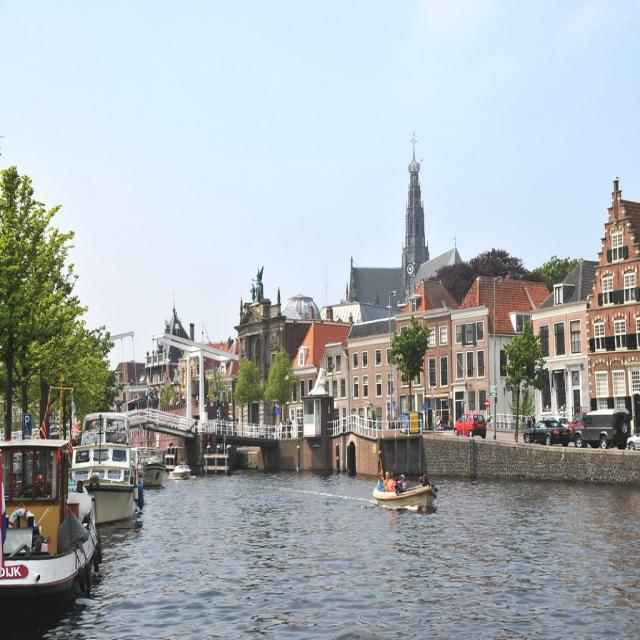Boat: (2, 417, 102, 614), (70, 411, 146, 525), (371, 480, 438, 513), (145, 452, 166, 490)
